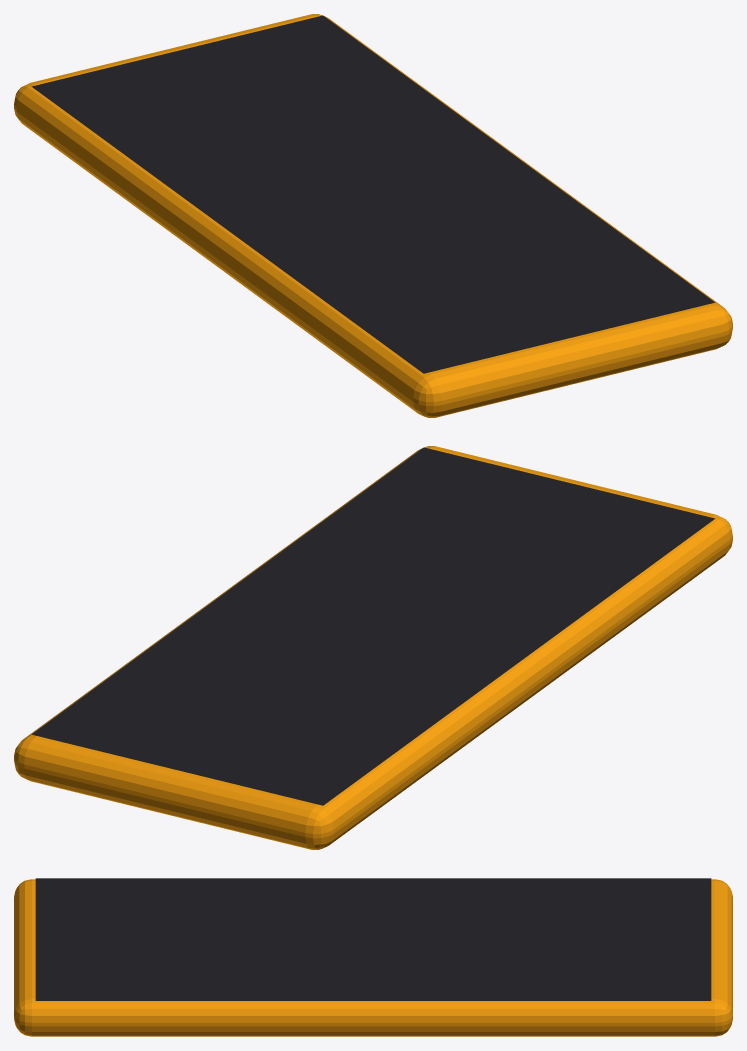
Rendered from vivo-x-model-24-flagship-2022.glb.
3 views of the same model, one above another, from view 1: azimuth 30°, elevation 25°; view 2: azimuth 150°, elevation 25°; view 3: azimuth 270°, elevation 25° (orthographic). The views are drawn at different scales.
Visible parts, largest first — view 1: Phone_Screen, Phone_Body; view 2: Phone_Screen, Phone_Body; view 3: Phone_Screen, Phone_Body.
Part boxes in pixels (left/top/right/bottom): Phone_Screen: left=31, top=15, right=714, bottom=373; Phone_Body: left=14, top=14, right=732, bottom=417; Phone_Screen: left=32, top=447, right=715, bottom=805; Phone_Body: left=14, top=446, right=732, bottom=849; Phone_Screen: left=35, top=878, right=711, bottom=1000; Phone_Body: left=14, top=879, right=732, bottom=1036.
Size of the model in its own units: 0.0705 by 0.009 by 0.1607.
